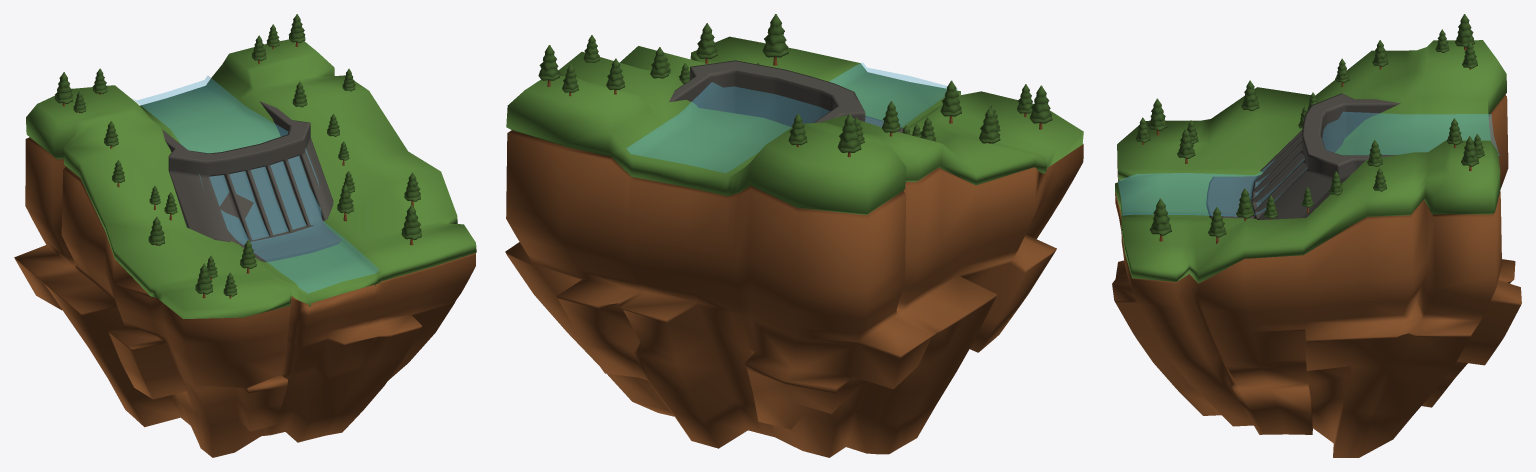
The model's file is Dam.glb.
The picture shows the model from 3 angles, left to right: view 1: azimuth 30°, elevation 25°; view 2: azimuth 150°, elevation 25°; view 3: azimuth 270°, elevation 25°; orthographic projection. The views are drawn at different scales.
Parts seen in each view (by area): view 1: Cube.014, Cube.015, Cube.171, Cylinder.022; view 2: Cube.014, Cube.171, Cube.015, Cylinder.022, Cylinder.152, Cylinder.149; view 3: Cube.014, Cube.171, Cube.015, Cylinder.022, Cylinder.152, Cylinder.149.
Boxes of the visible parts, x1=… form: Cube.014: x1=14, y1=39, x2=476, y2=457; Cube.015: x1=162, y1=101, x2=341, y2=262; Cube.171: x1=133, y1=76, x2=378, y2=293; Cylinder.022: x1=401, y1=204, x2=421, y2=245; Cube.014: x1=505, y1=36, x2=1083, y2=457; Cube.171: x1=626, y1=62, x2=957, y2=172; Cube.015: x1=669, y1=60, x2=903, y2=132; Cylinder.022: x1=762, y1=14, x2=788, y2=65; Cylinder.152: x1=837, y1=113, x2=861, y2=157; Cylinder.149: x1=1029, y1=85, x2=1052, y2=129; Cube.014: x1=1112, y1=40, x2=1521, y2=457; Cube.171: x1=1118, y1=112, x2=1499, y2=216; Cube.015: x1=1206, y1=93, x2=1400, y2=219; Cylinder.022: x1=1149, y1=198, x2=1171, y2=241; Cylinder.152: x1=1455, y1=14, x2=1474, y2=50; Cylinder.149: x1=1148, y1=98, x2=1167, y2=135.
Bounding box in the file's own units: 5.15 × 4.97 × 5.33.
